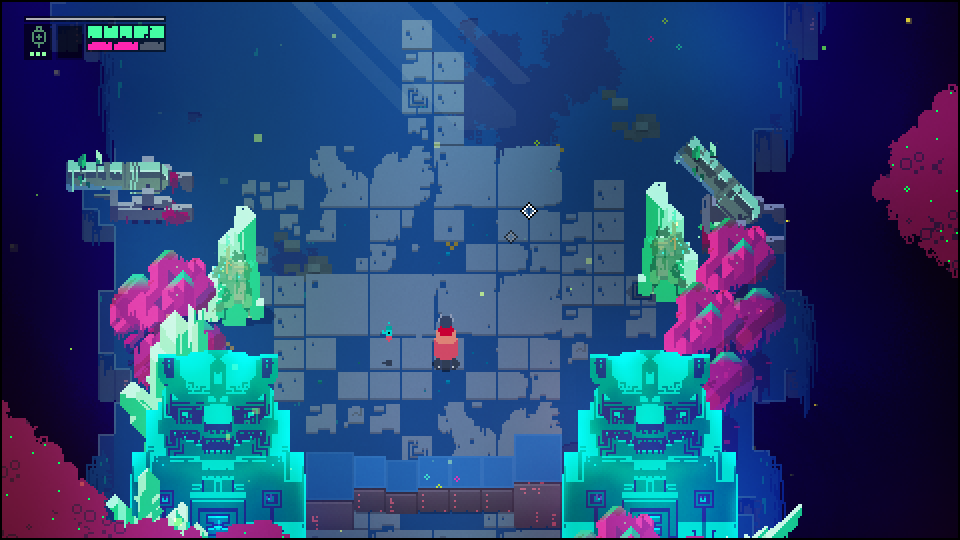player: (434, 315, 460, 369)
